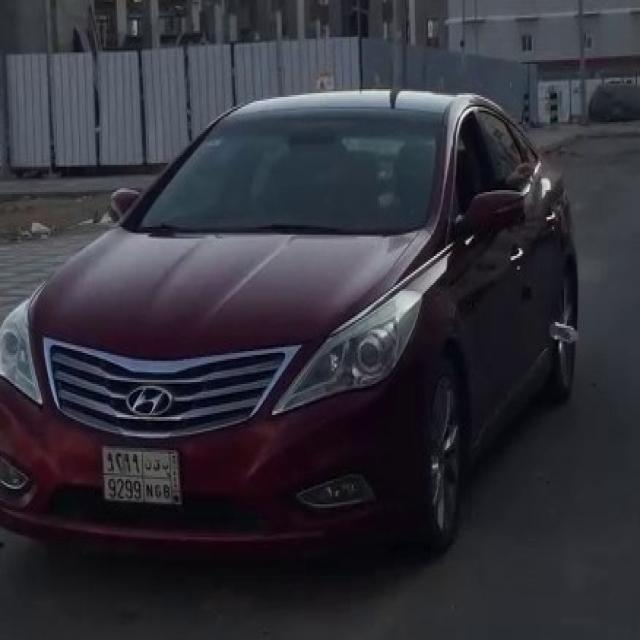Car-plate: (99, 437, 191, 511)
